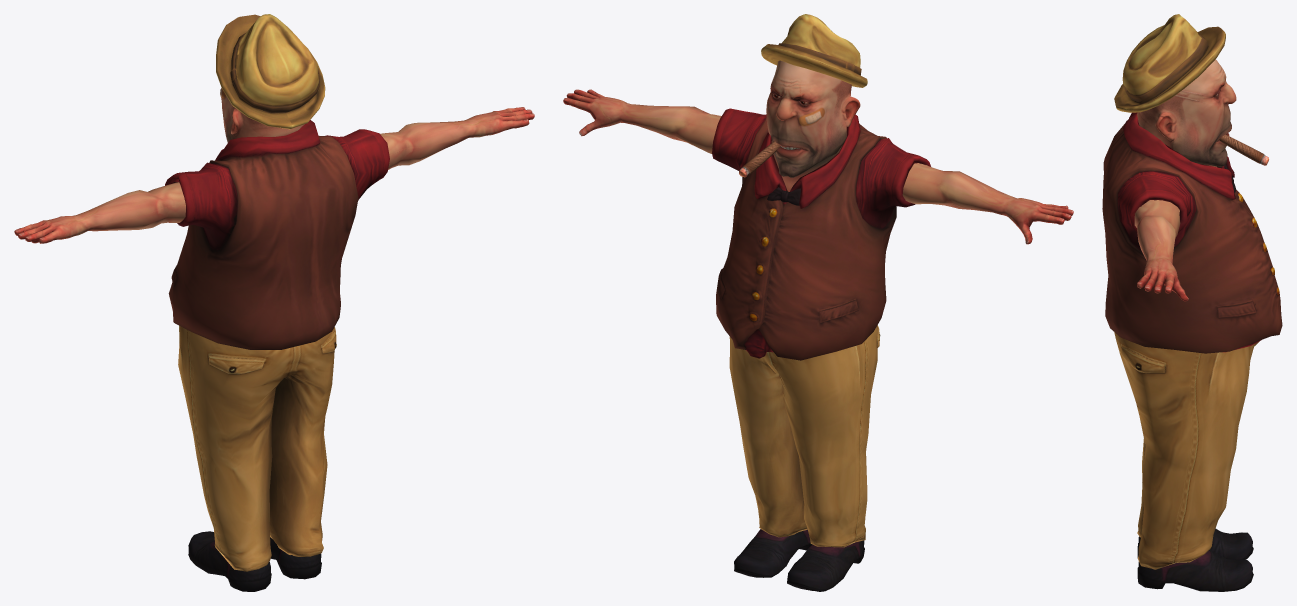
File: source.obj
The picture shows the model from 3 angles, left to right: view 1: azimuth 30°, elevation 25°; view 2: azimuth 150°, elevation 25°; view 3: azimuth 270°, elevation 25°; orthographic projection.
Bounding box in the file's own units: 1.93 × 1.99 × 0.5878.
Materials: 4 (4 with a texture image).
